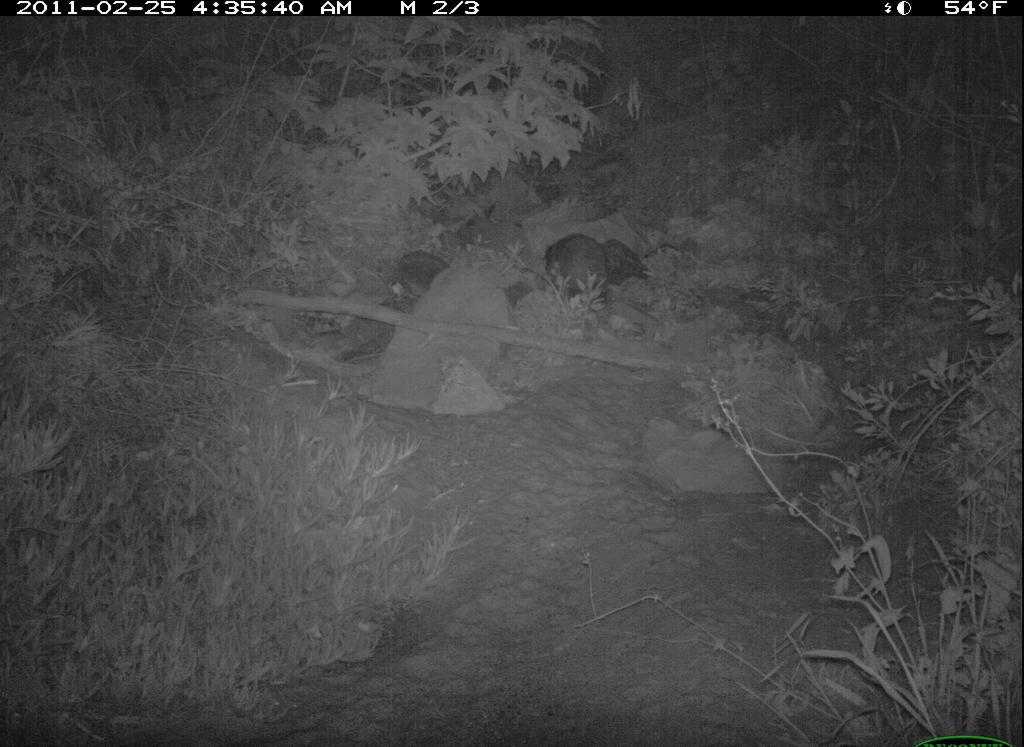raccoon: (540, 223, 622, 338)
